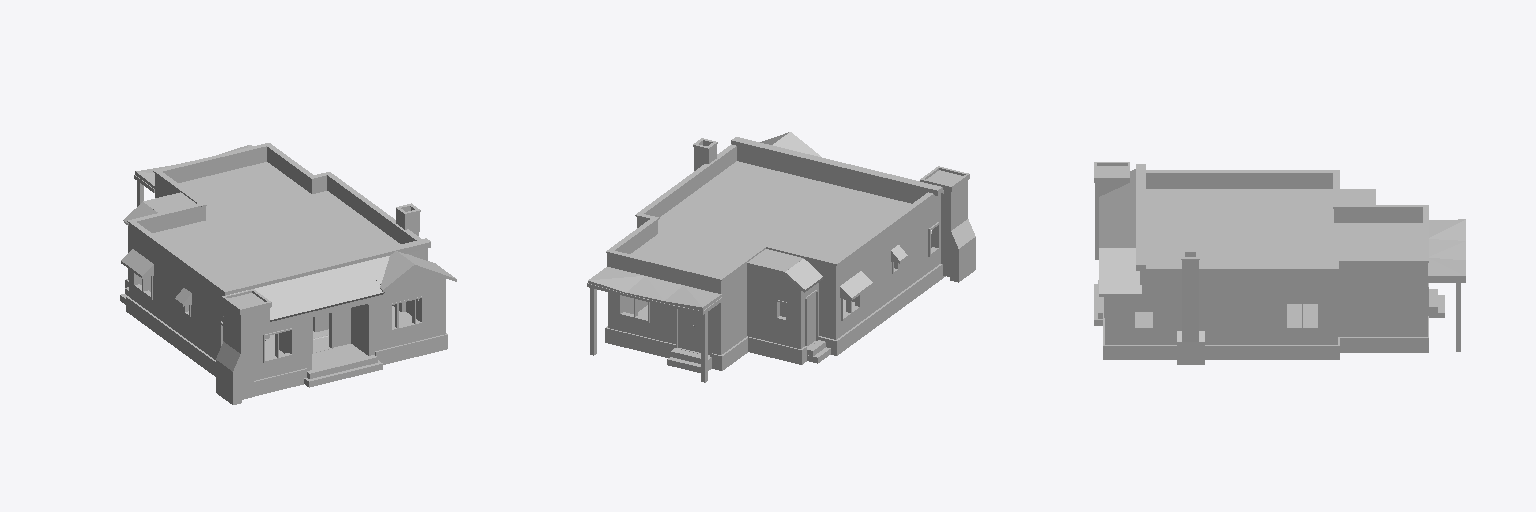
File: casa.obj
The picture shows the model from 3 angles: view 1: azimuth 30°, elevation 25°; view 2: azimuth 150°, elevation 25°; view 3: azimuth 270°, elevation 25°; orthographic projection.
Parts seen in each view (by area): view 1: polySurface23 pCube152, pCube274, pCube259, polySurface15 pCube219, pCube180, pCube184, pCube163, pCube103, pCube100, pCube129, pCube126, pCube139 (+13 smaller); view 2: polySurface23 pCube152, pCube274, polySurface19 pCube222, pCube230, pCube125, pCube163, polySurface12 pCube209, pCube103, pCube180, pCube81, pCube129, pCube126 (+12 smaller); view 3: polySurface23 pCube152, pCube276, pCube45, pCube121, pCube124, pCube126, pCube230, pCube259, pCube157, pCube172, pCube119, pCube128 (+8 smaller).
Part boxes in pixels (x1,y1,x2,y2): polySurface23 pCube152: (152, 162, 399, 286); pCube274: (129, 239, 222, 359); pCube259: (230, 262, 384, 321); polySurface15 pCube219: (372, 276, 441, 354); pCube180: (223, 293, 269, 399); pCube184: (254, 313, 307, 380); pCube163: (220, 238, 430, 295); pCube103: (126, 296, 215, 376); pCube100: (307, 344, 377, 378); pCube129: (165, 148, 266, 182); pCube126: (132, 226, 222, 306); pCube139: (216, 341, 241, 404); polySurface23 pCube152: (631, 161, 910, 275); pCube274: (832, 204, 940, 339); polySurface19 pCube222: (747, 277, 797, 348); pCube230: (588, 267, 721, 310); pCube125: (737, 147, 925, 203); pCube163: (731, 137, 942, 195); polySurface12 pCube209: (611, 293, 717, 354); pCube103: (835, 264, 945, 355); pCube180: (926, 170, 967, 276); pCube81: (718, 278, 746, 354); pCube129: (607, 253, 719, 293); pCube126: (838, 195, 934, 279); polySurface23 pCube152: (1146, 189, 1422, 265); pCube276: (1105, 286, 1337, 344); pCube45: (1338, 279, 1427, 336); pCube121: (1105, 345, 1339, 359); pCube124: (1140, 270, 1333, 285); pCube126: (1146, 174, 1332, 188); pCube230: (1427, 219, 1465, 278); pCube259: (1099, 169, 1135, 247); pCube157: (1099, 248, 1141, 296); pCube172: (1182, 254, 1198, 341); pCube119: (1338, 337, 1428, 352); pCube128: (1338, 263, 1426, 278).
Size of the model in its own units: 15.51 by 6.89 by 21.69.